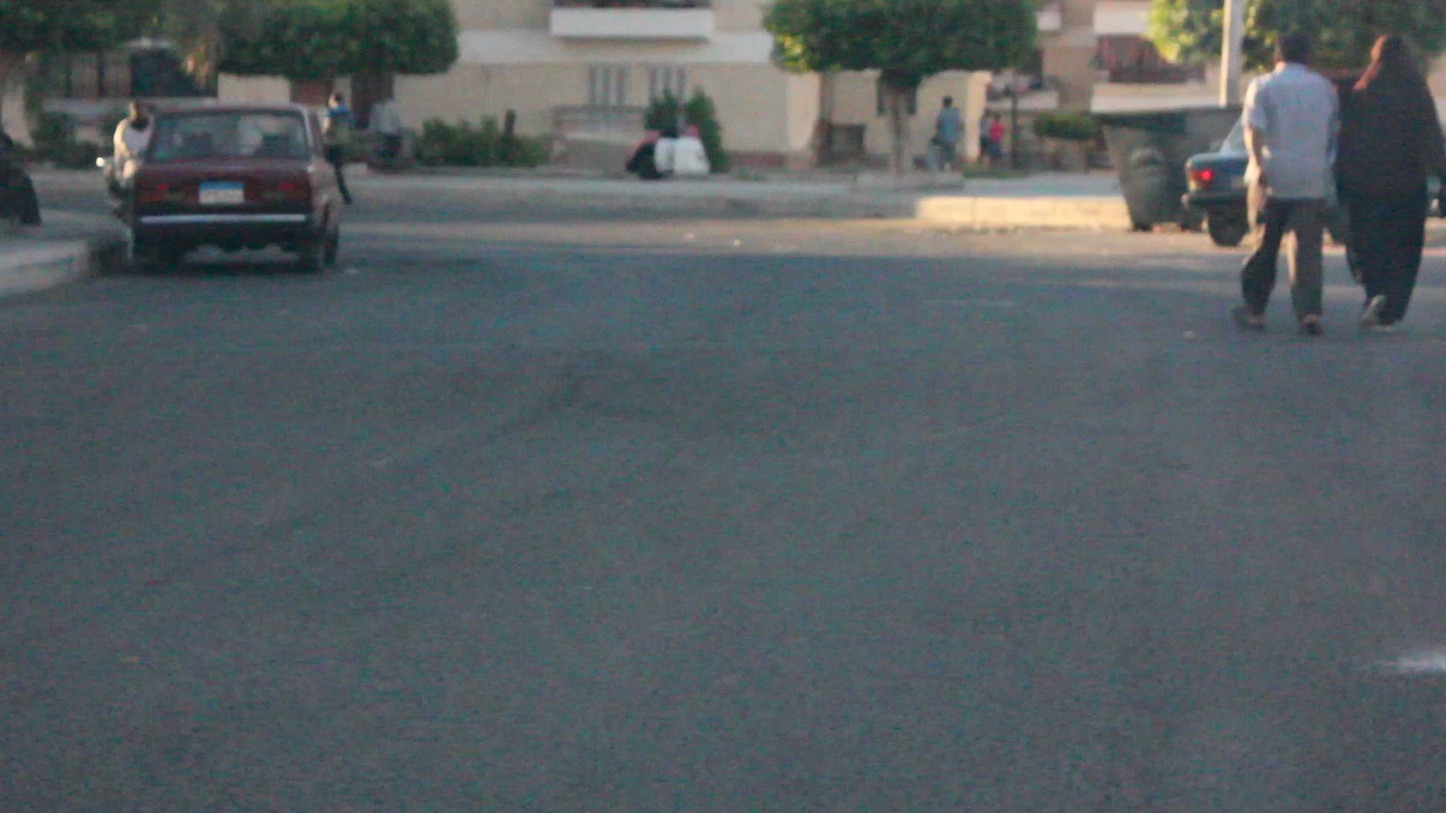Bump: (6, 322, 1446, 420)
